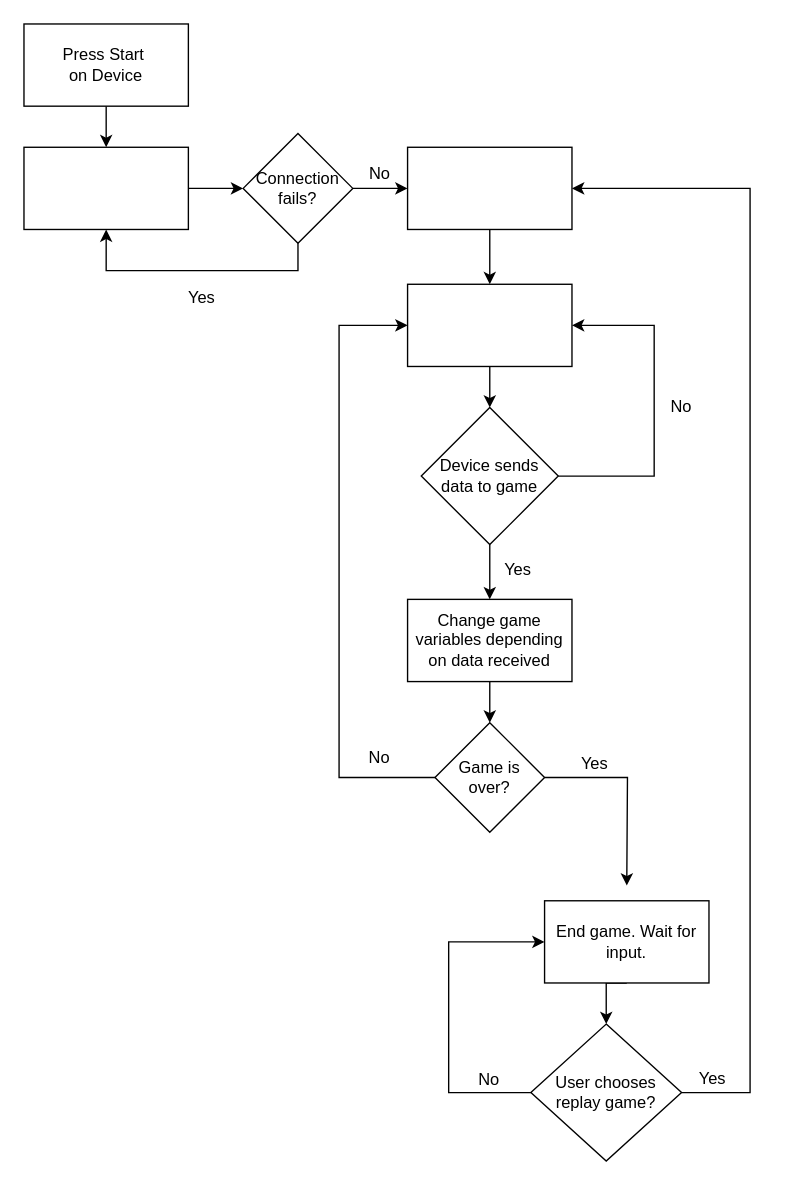
This 785x1185 diagram has some shape labels left out. Each missing label, with the centre of its shape:
Begin game: (489,187)
Listen for user input: (489,324)
Try connection to Chromecast: (105,187)
